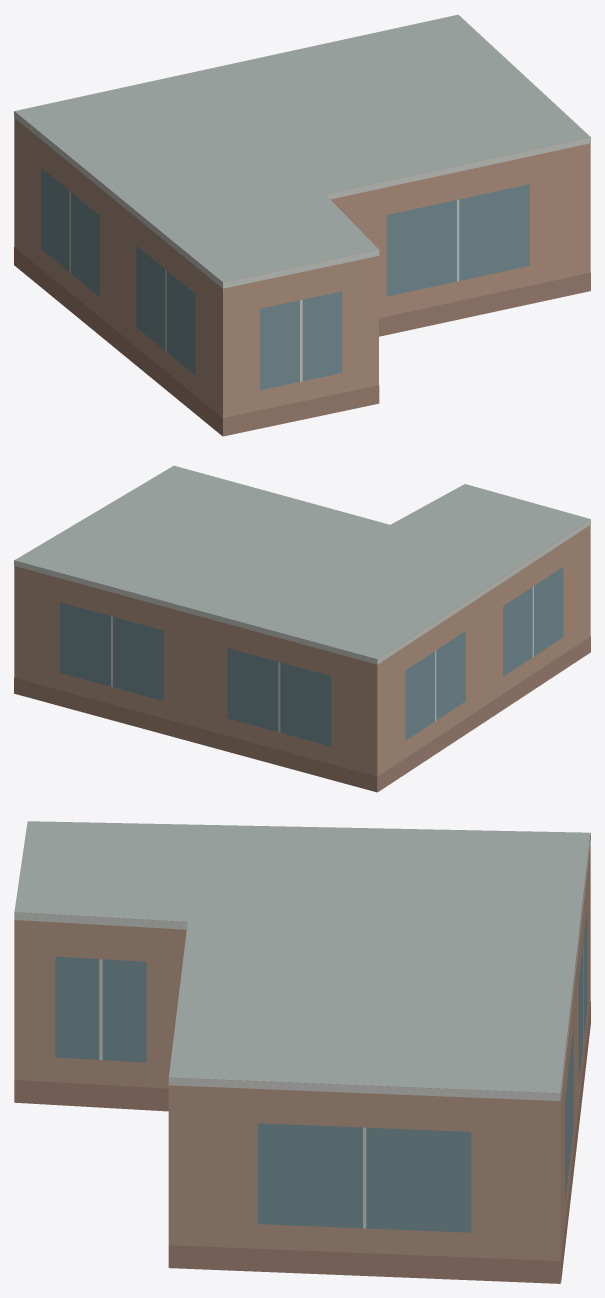
The model's file is survey-upis-32905152.glb.
3 views of the same model, one above another, from view 1: azimuth 30°, elevation 25°; view 2: azimuth 150°, elevation 25°; view 3: azimuth 270°, elevation 25° (orthographic). The views are drawn at different scales.
Visible parts, largest first — view 1: survey-upis-32905152.tmp; view 2: survey-upis-32905152.tmp; view 3: survey-upis-32905152.tmp.
Part boxes in pixels (x1,y1,x2,y2): survey-upis-32905152.tmp: (14,14,590,436); survey-upis-32905152.tmp: (14,465,590,792); survey-upis-32905152.tmp: (14,821,590,1283).
Size of the model in its own units: 9.36 by 3.05 by 8.38.
